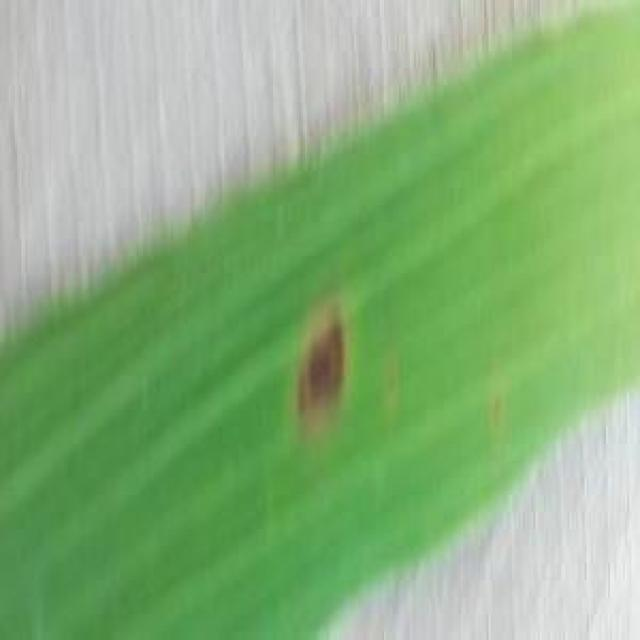brownspots: (278, 326, 360, 427)
